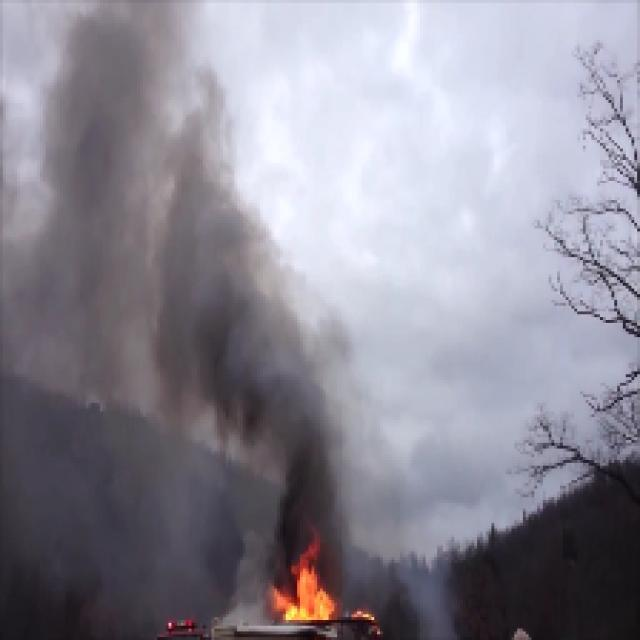Fire: (270, 560, 344, 632)
Smoke: (4, 3, 178, 564), (184, 113, 364, 532)
